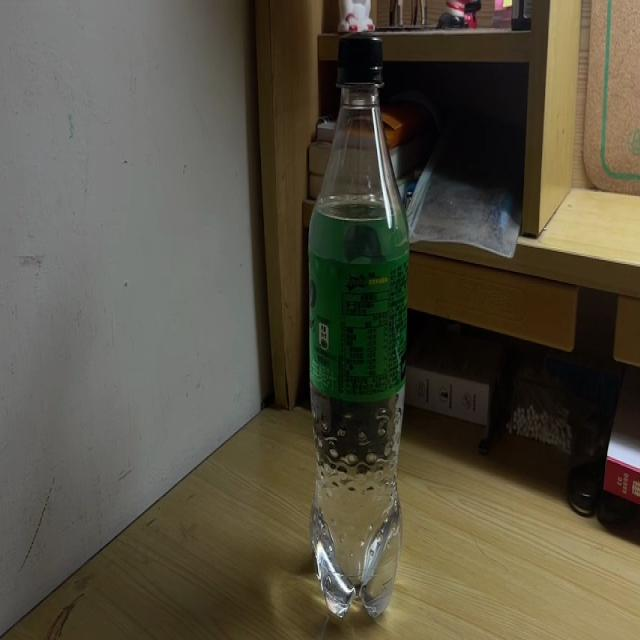Sprite: (309, 36, 407, 622)
